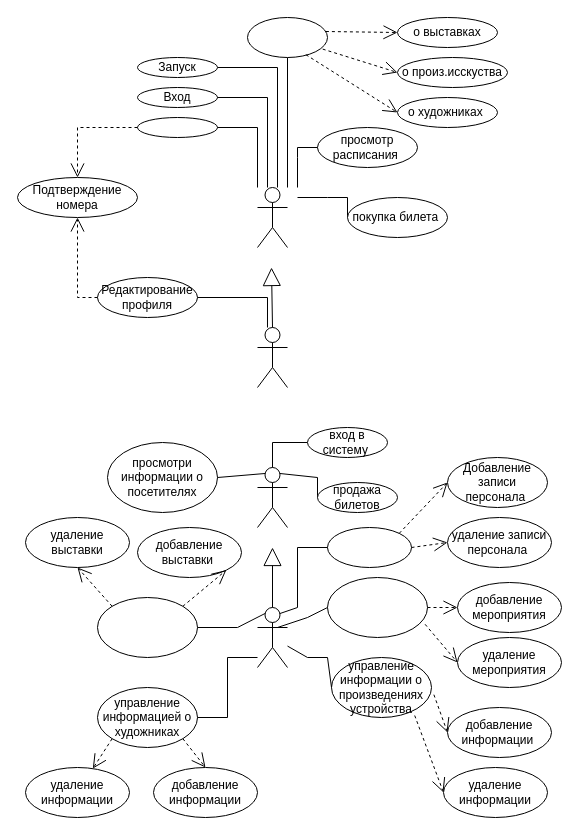
The diagram is 579 pixels wide and 835 high, and some of its shapes have lost their labels. Each missing label, with the centre of its shape:
Авторизированный: point 272,357
Администратор: point 272,637
кассир: point 272,497
посетитель: point 272,217
просмотр информации: point 287,37
работа с персоналом: point 369,547
Регистрация: point 177,127
управление информации о выставках: point 147,627
управлением расписанием мероприятий: point 377,607
